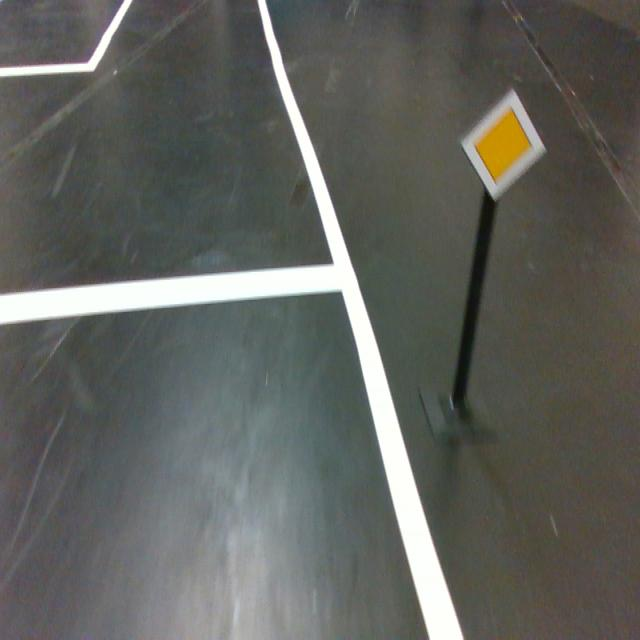priority-sign: (459, 87, 548, 204)
